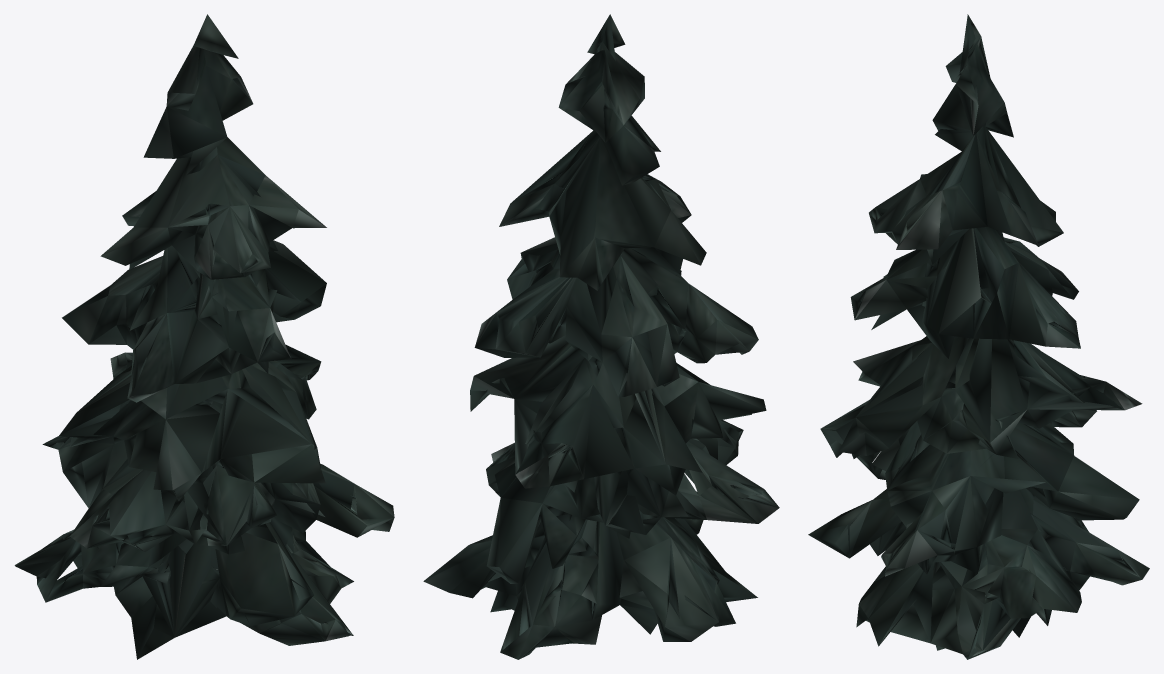
File: pine.glb
3 renders of one model, left to right at view 1: azimuth 30°, elevation 25°; view 2: azimuth 150°, elevation 25°; view 3: azimuth 270°, elevation 25°, orthographic. The views are drawn at different scales.
Parts seen in each view (by area): view 1: Mesh_0; view 2: Mesh_0; view 3: Mesh_0.
Part boxes in pixels (bbox=[...]): Mesh_0: bbox=[14, 14, 394, 659]; Mesh_0: bbox=[423, 14, 779, 659]; Mesh_0: bbox=[808, 14, 1149, 659].
Size of the model in its own units: 0.6579 by 1.29 by 0.6706.
Materials: 1 (1 with a texture image).
